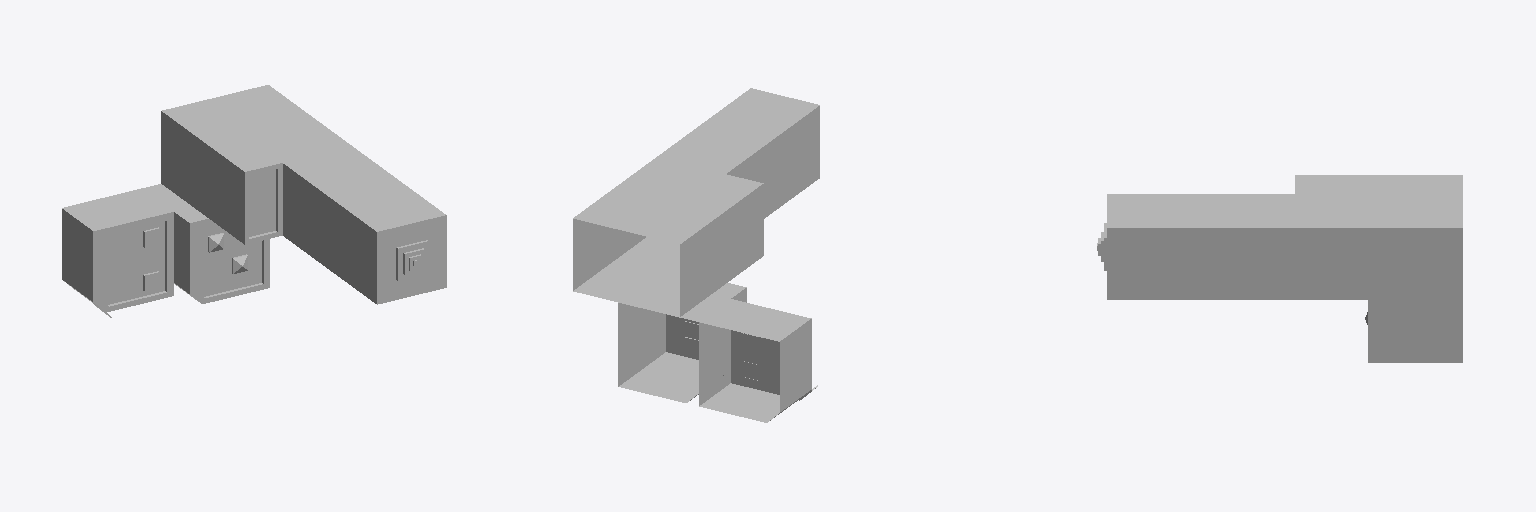
The model's file is tower14.obj.
The picture shows the model from 3 angles: view 1: azimuth 30°, elevation 25°; view 2: azimuth 150°, elevation 25°; view 3: azimuth 270°, elevation 25°; orthographic projection.
Parts seen in each view (by area): view 1: tower14; view 2: tower14; view 3: tower14.
Boxes of the visible parts, box(x1,y1,x2,y2) form: tower14: box(62, 85, 446, 317); tower14: box(573, 88, 819, 422); tower14: box(1097, 175, 1462, 362).
Size of the model in its own units: 35.41 by 25.76 by 54.01.